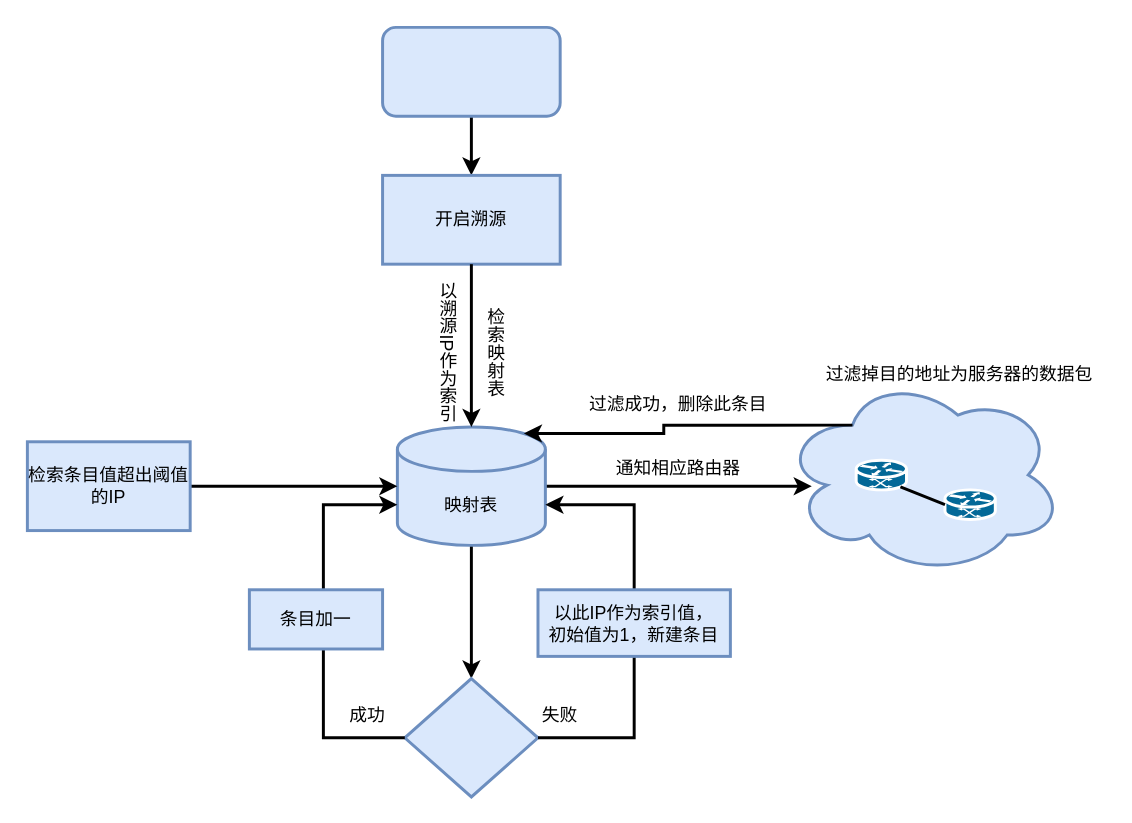
Some shapes in this 1132 by 823 pixel diagram are drawn without their labels. The centre of each missing label's shape, as x and y in pixels:
"检测到攻击" belongs at (x=470, y=71).
"检索成功？" belongs at (x=471, y=737).
